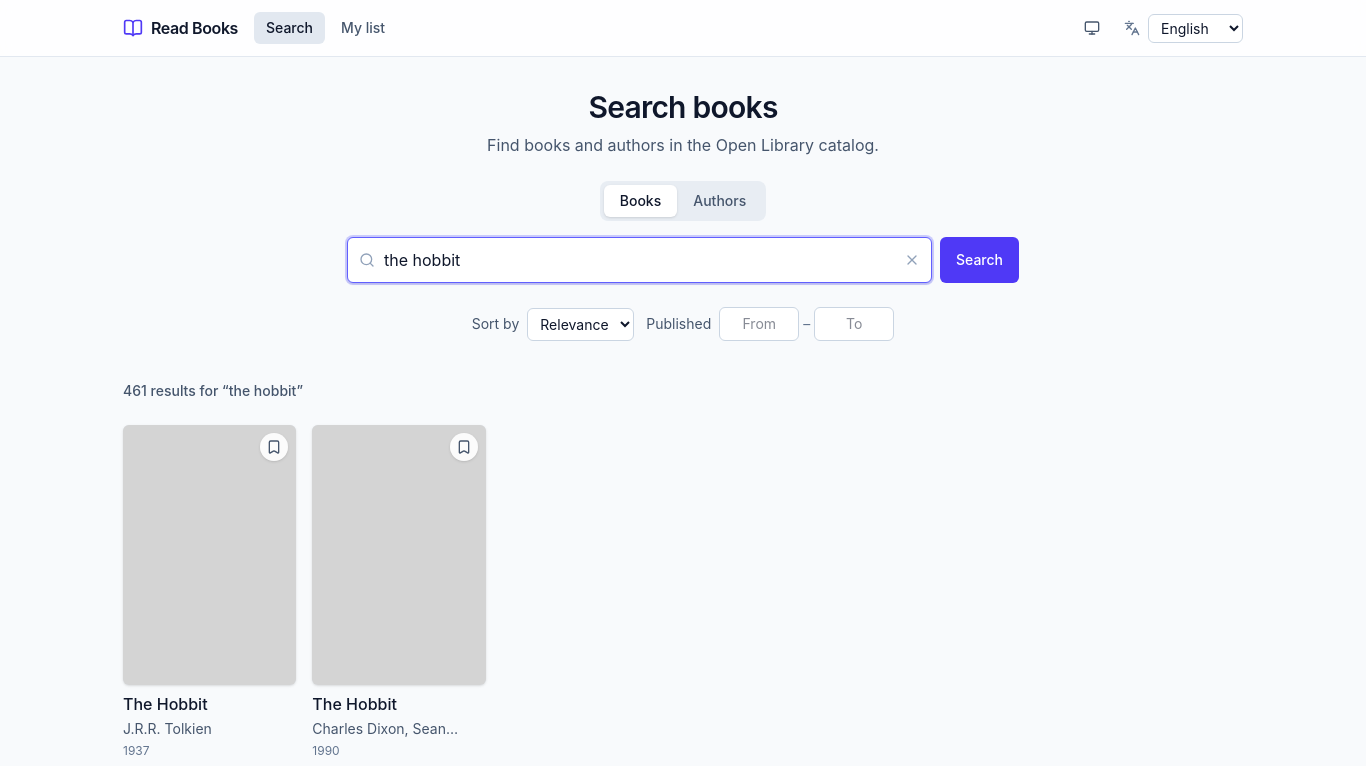
Test: SearchPage › clears the search
The image size is (1366, 766).
What coordinates should you click on to do the following:
click the button named "Clear search"
I would click on:
 (912, 260)
Its box is x1=900 y1=248 x2=924 y2=272.
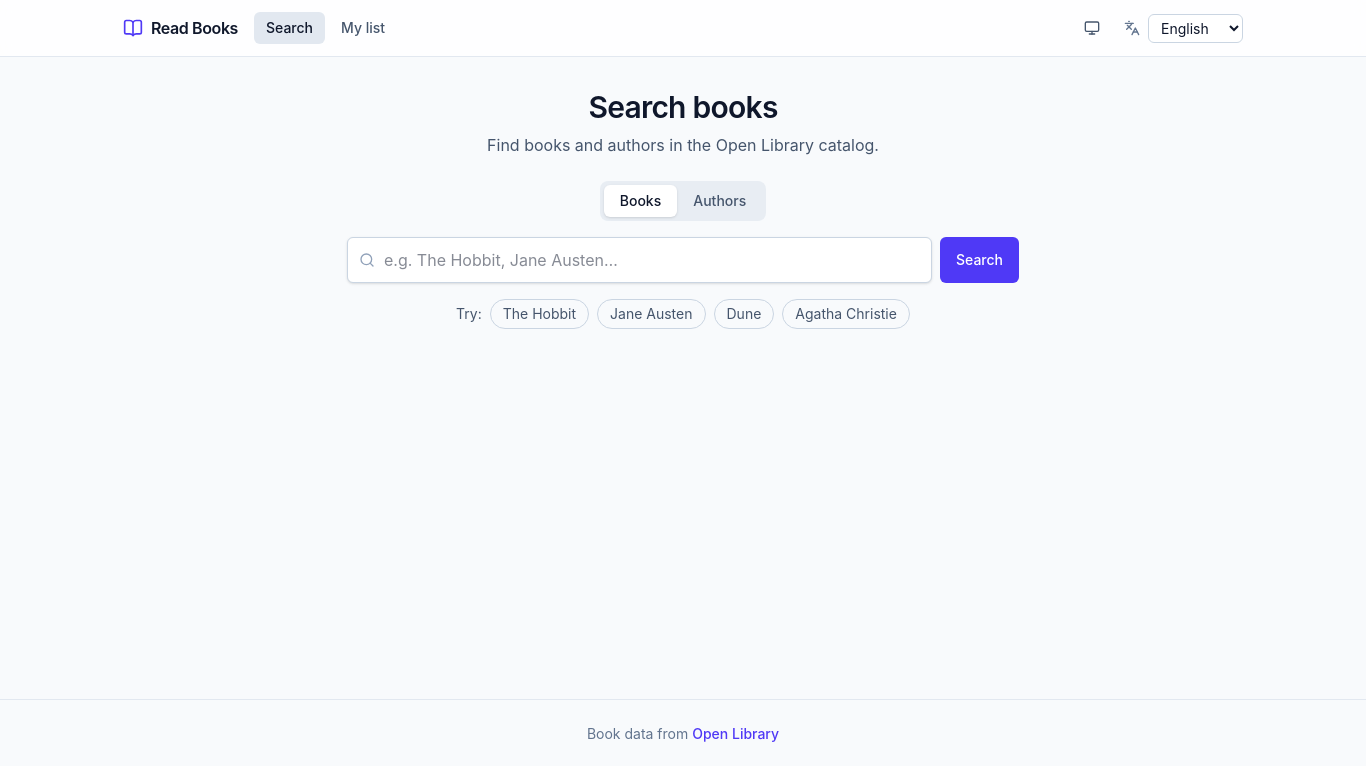
Now the search field named "Search by title, author or keyword" is empty, box x1=347 y1=237 x2=932 y2=283
Now the link "Dune" is shown, box x1=714 y1=299 x2=774 y2=329
